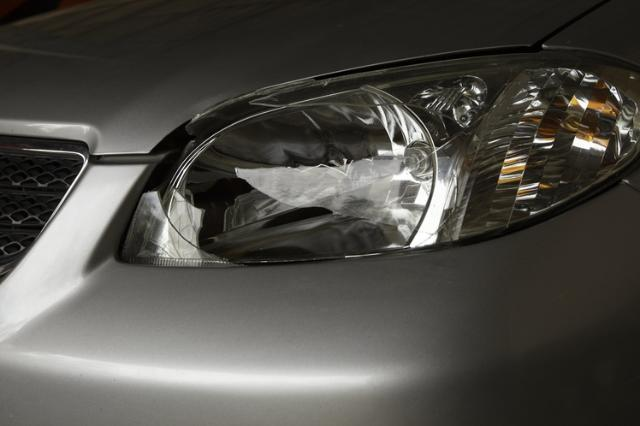Light: (109, 55, 640, 261)
